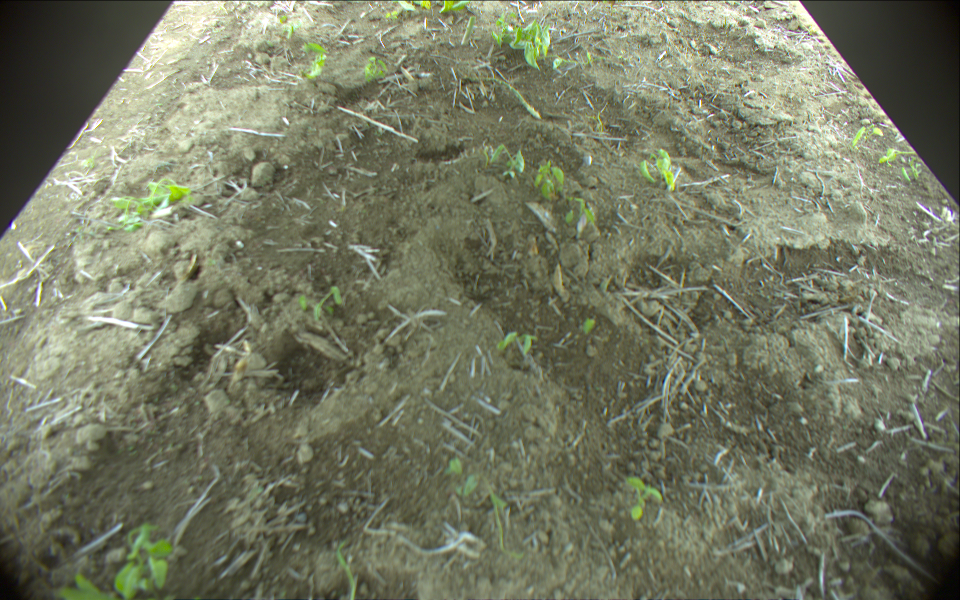aspa: (459, 75, 545, 120)
